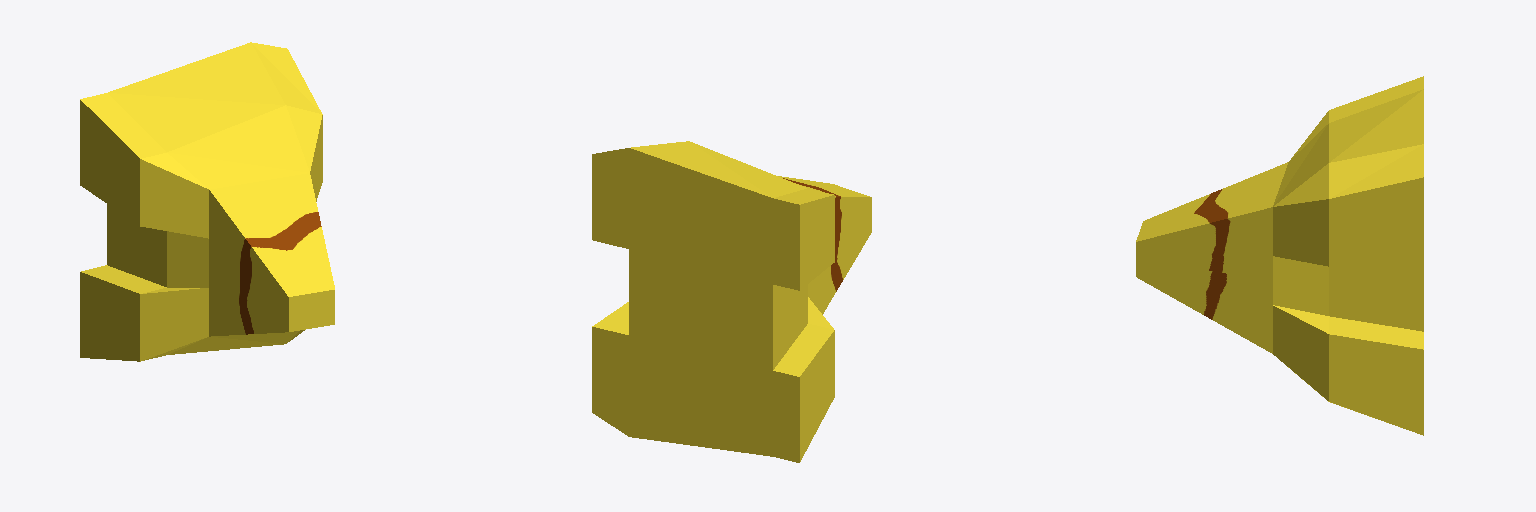
3 views of the same model, side by side, from view 1: azimuth 30°, elevation 25°; view 2: azimuth 150°, elevation 25°; view 3: azimuth 270°, elevation 25° (orthographic).
Visible parts, largest first — view 1: Cube; view 2: Cube; view 3: Cube.
Boxes of the visible parts, <box> form: Cube: <box>80,42,334,361</box>; Cube: <box>592,141,871,462</box>; Cube: <box>1136,76,1423,435</box>.
Size of the model in its own units: 4.24 by 5.66 by 5.11.
Materials: 1 (1 with a texture image).